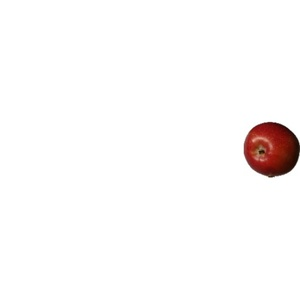maçã braeburn: (245, 116, 300, 179)
